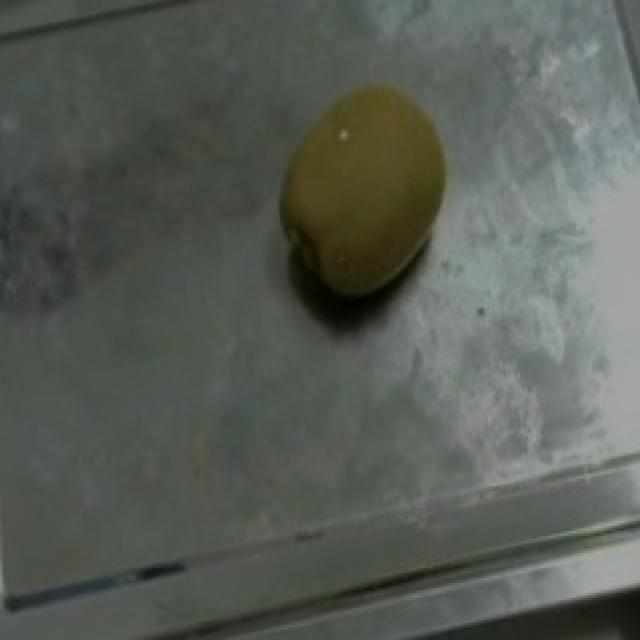Fruit: (244, 50, 480, 338)
